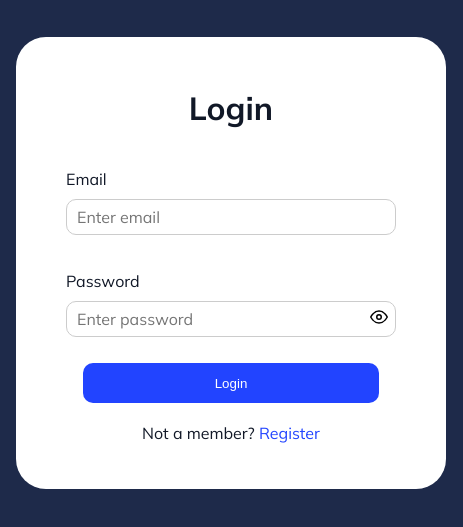
Test case: LoginPage › shows an inline error and does not navigate on invalid credentials
Type "jane@neumann.io" into the field labelled "Email" at (231, 217), box [66,199,396,235]
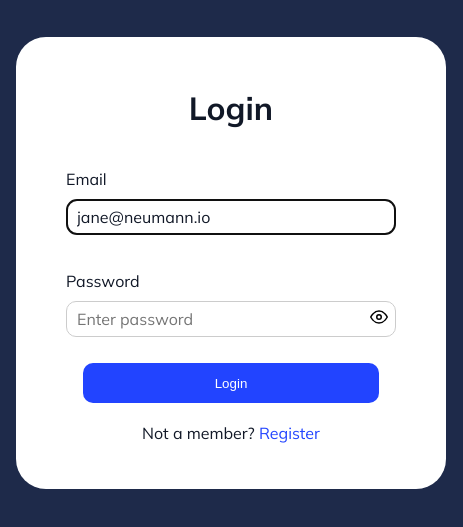
Type "wrong-password" into the password field labelled "Password" at (231, 319), box [66,301,396,337]
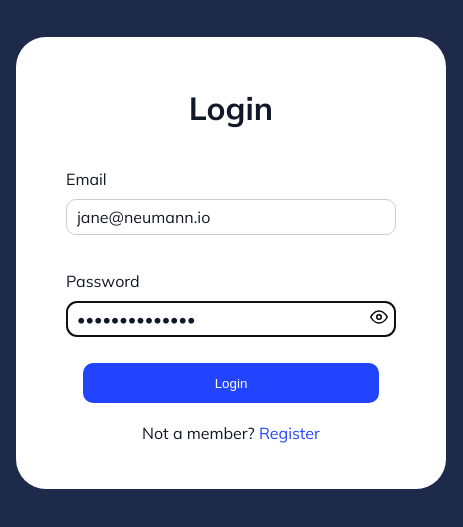
Click the button "Login" at (231, 383), box [83,363,379,403]
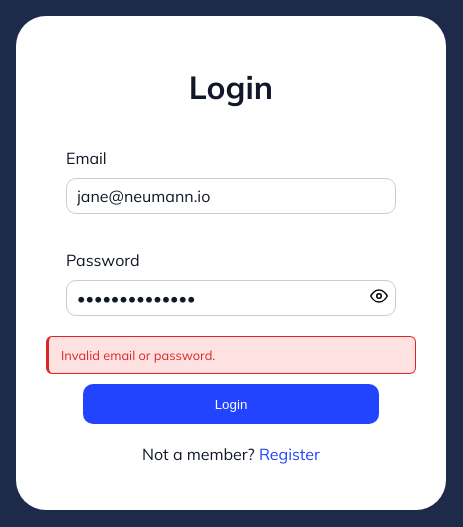
Expected: the message reads "Invalid email or password.", [61,347,215,363]
